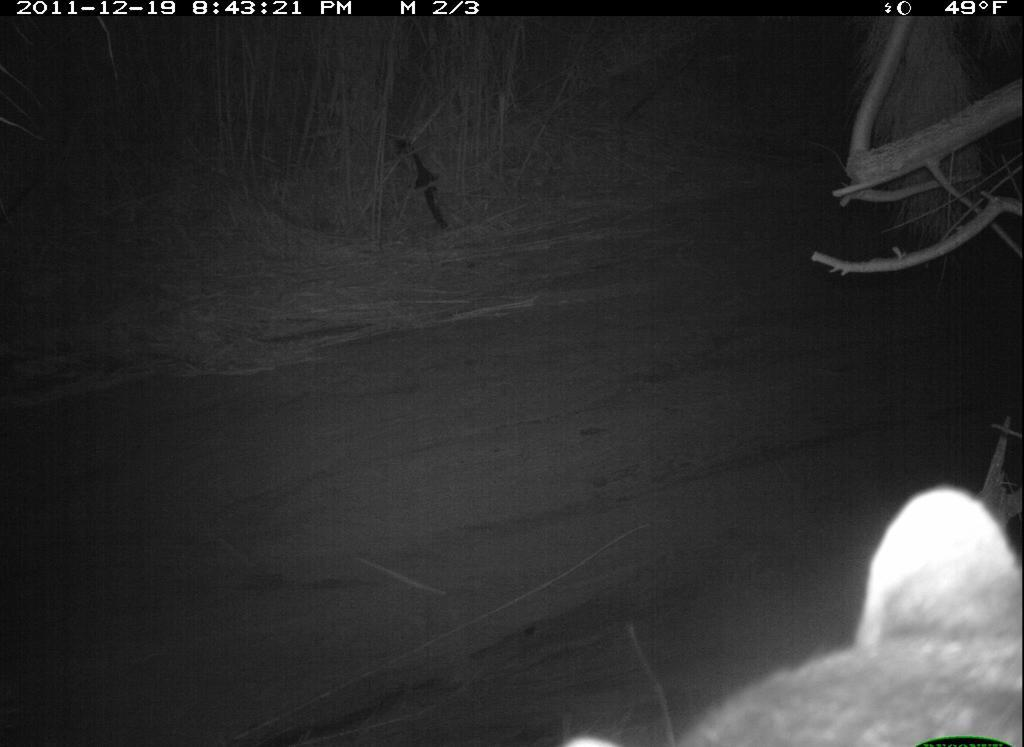raccoon: (545, 474, 1016, 747)
